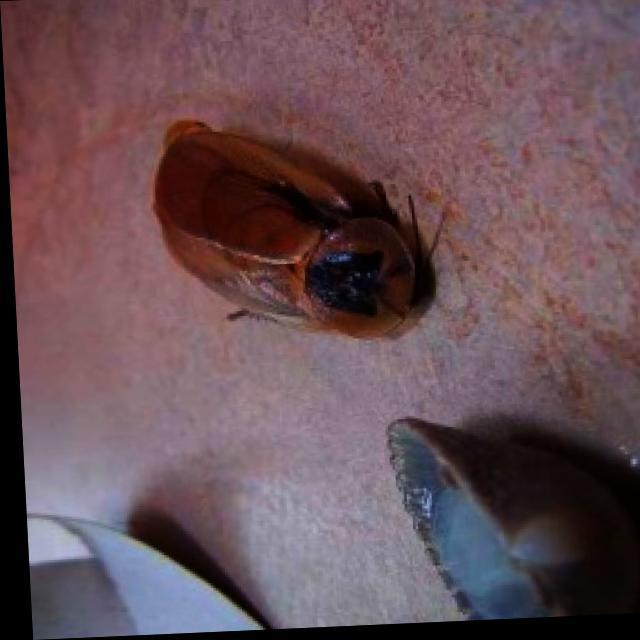cockroach: (146, 113, 453, 345)
